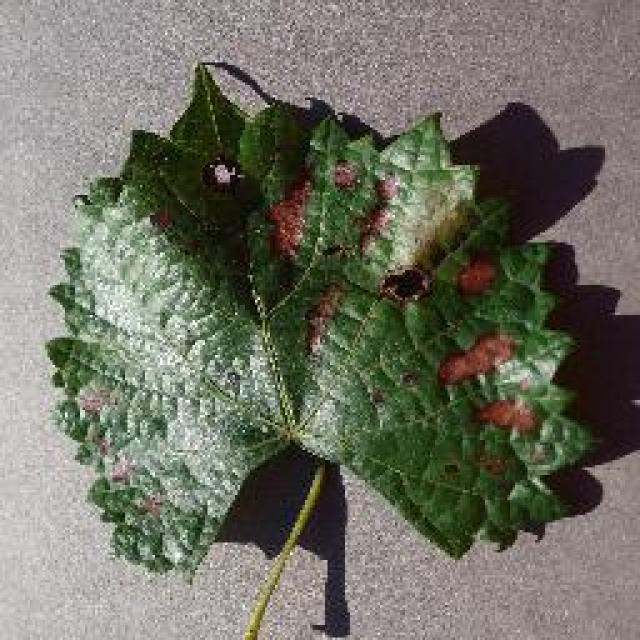Black_Measles: (37, 38, 623, 582)
